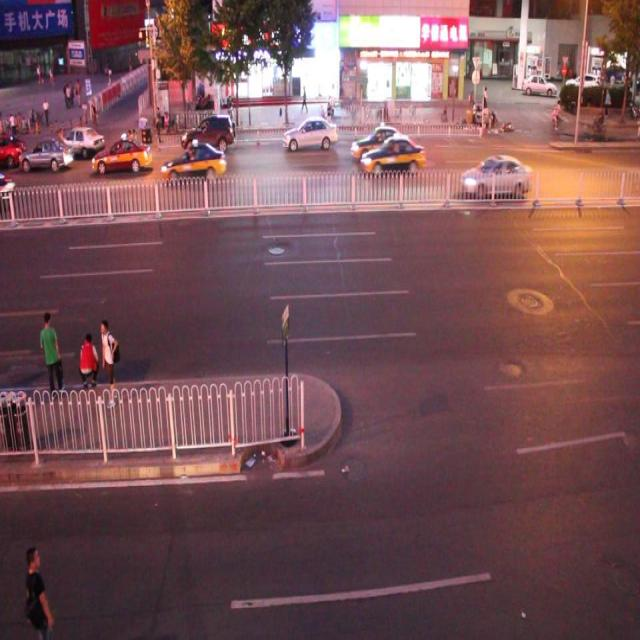car: (460, 154, 529, 198), (359, 136, 424, 175), (162, 145, 226, 181), (91, 139, 152, 174), (180, 116, 235, 154), (282, 114, 337, 151), (19, 137, 73, 172), (352, 125, 407, 157), (60, 124, 105, 159), (1, 132, 25, 168)
